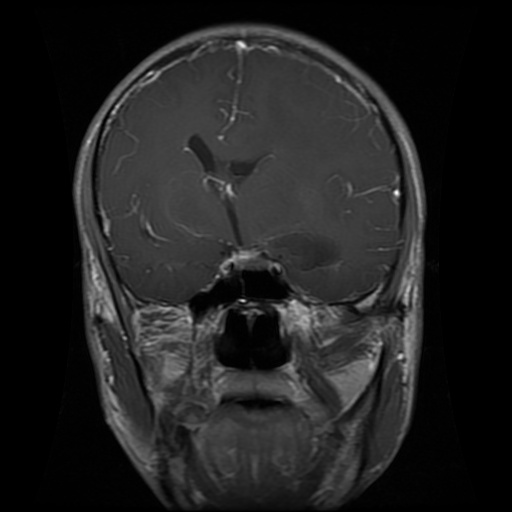glioma: (262, 232, 341, 273)
